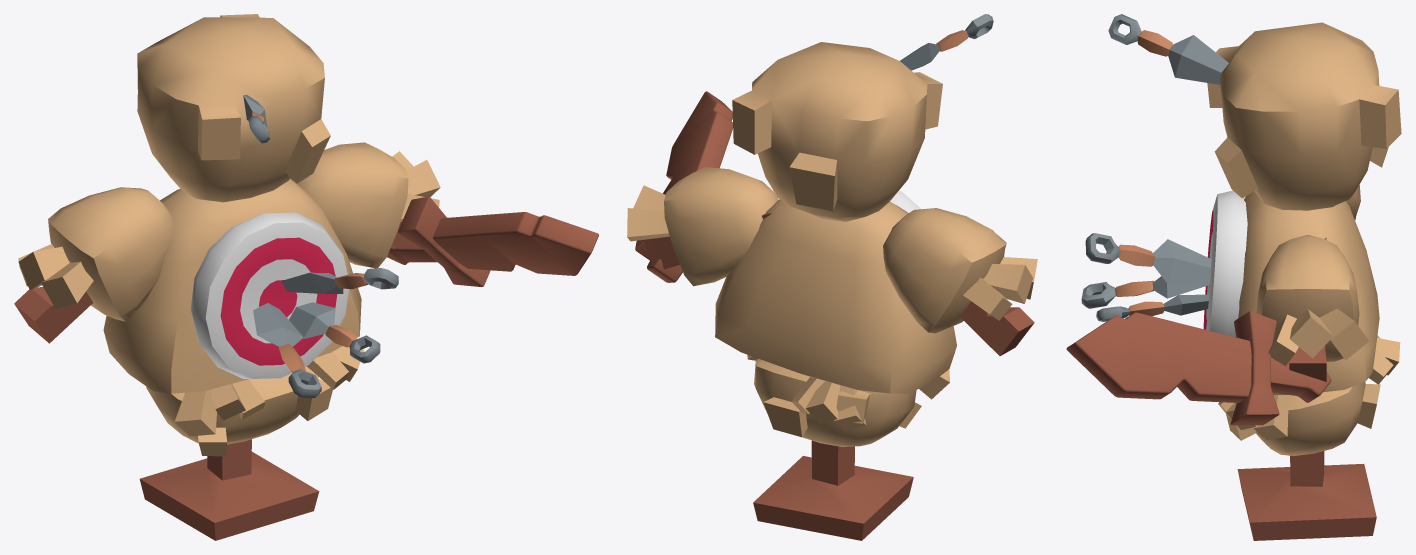
The model's file is trainingdummy_b.gltf.glb.
3 renders of one model, left to right at view 1: azimuth 30°, elevation 25°; view 2: azimuth 150°, elevation 25°; view 3: azimuth 270°, elevation 25°, orthographic. The views are drawn at different scales.
Visible parts, largest first — view 1: trainingdummy_b; view 2: trainingdummy_b; view 3: trainingdummy_b.
Part boxes in pixels (bbox=[...]): trainingdummy_b: bbox=[14, 14, 598, 540]; trainingdummy_b: bbox=[627, 14, 1037, 540]; trainingdummy_b: bbox=[1066, 14, 1401, 540].
Bounding box in the file's own units: 1.7 × 1.66 × 1.07.
